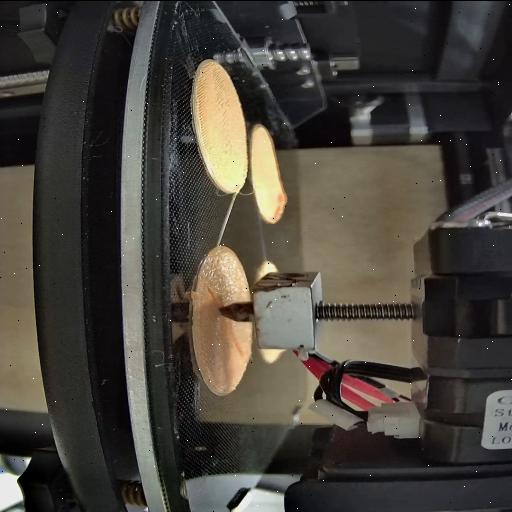over_extrusion: (252, 184, 297, 230), (202, 285, 230, 307), (228, 324, 242, 366)
